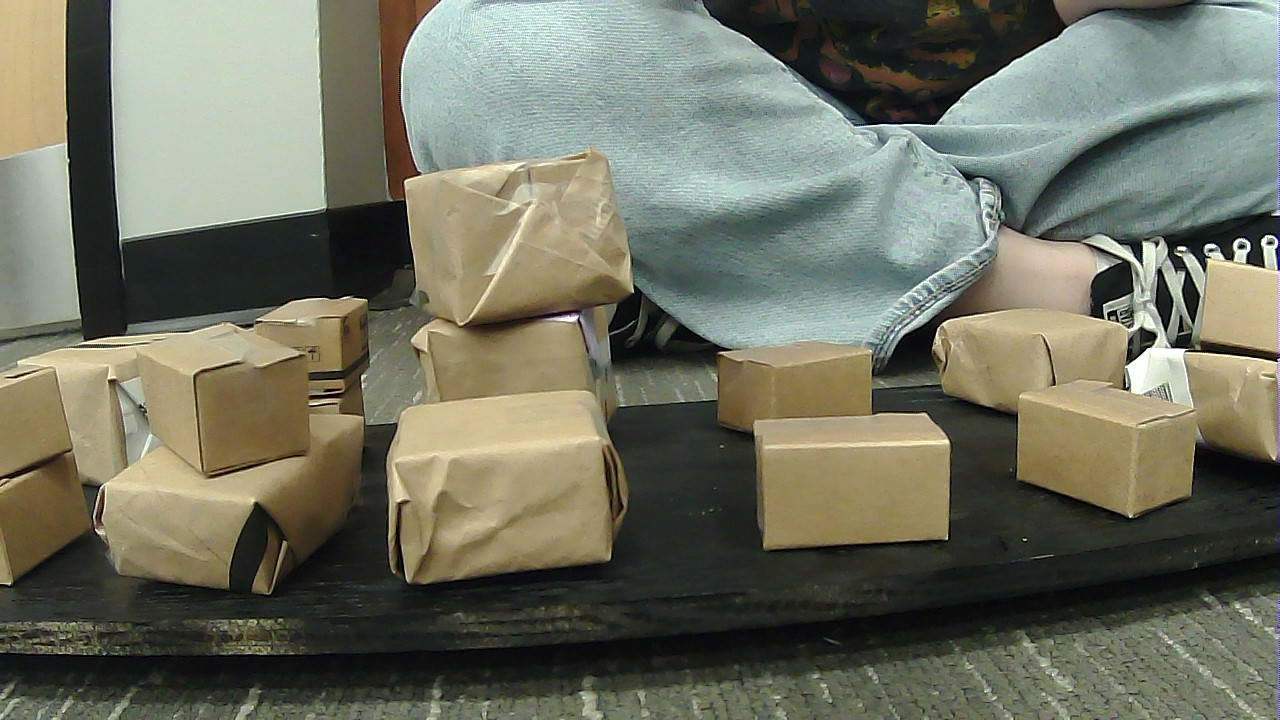package: (399, 150, 646, 330), (396, 400, 639, 579), (113, 425, 369, 594), (752, 401, 958, 563), (412, 301, 634, 445), (118, 323, 306, 470), (42, 318, 184, 495), (1017, 382, 1191, 524), (933, 304, 1128, 405), (1125, 345, 1272, 463), (710, 343, 876, 429), (260, 287, 371, 389), (3, 477, 84, 583), (1190, 257, 1276, 348), (7, 363, 81, 463)
stacked: (110, 323, 363, 597), (393, 168, 654, 429), (1144, 250, 1277, 465), (257, 293, 372, 501), (0, 360, 88, 585)
